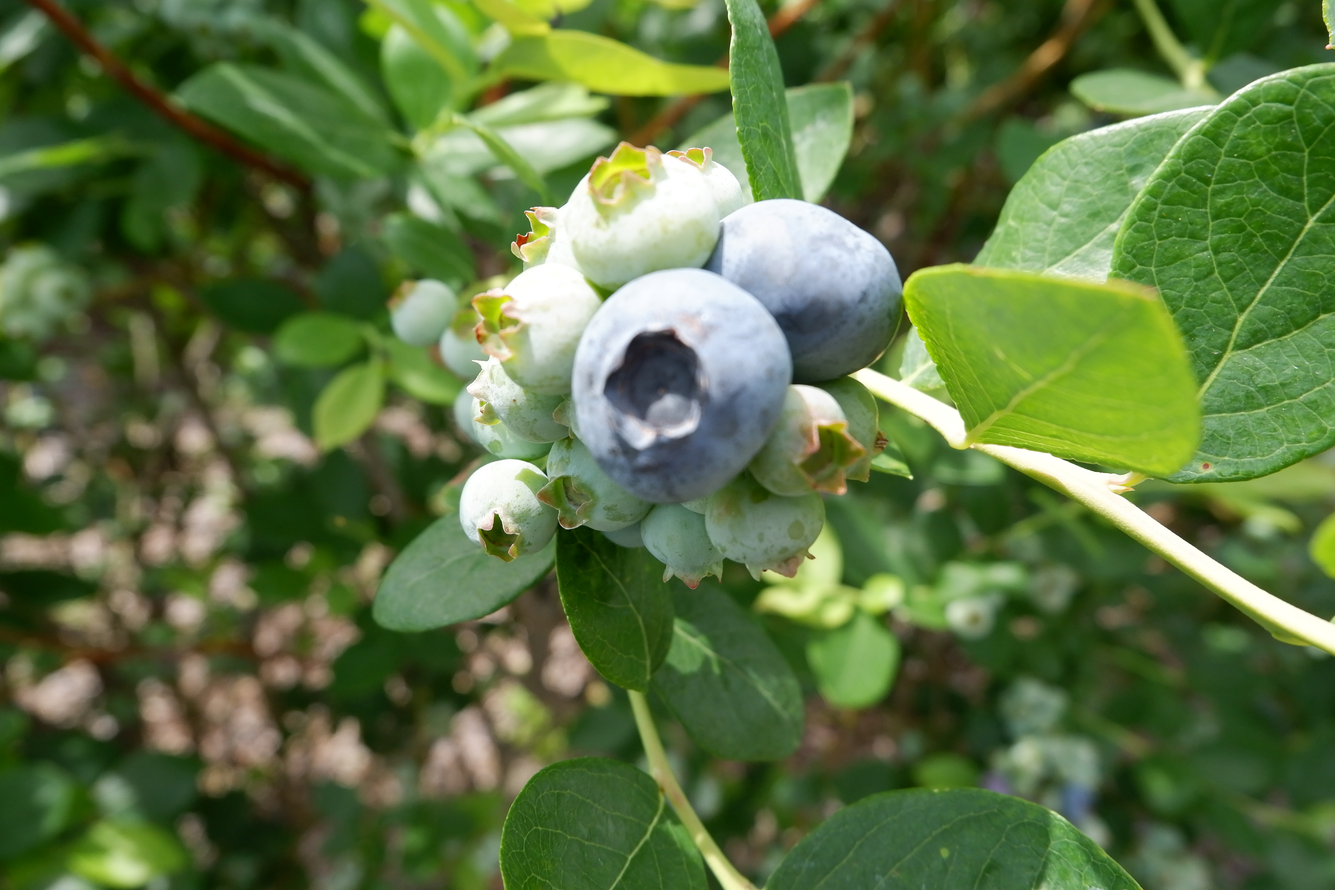Immature: (568, 151, 716, 286), (471, 268, 600, 392), (705, 471, 825, 576), (750, 387, 861, 494), (536, 436, 650, 531), (461, 461, 557, 558), (808, 375, 891, 481), (468, 360, 567, 443), (643, 505, 721, 587), (467, 397, 556, 463), (668, 148, 746, 218), (514, 205, 581, 271), (607, 517, 644, 547)
Mature: (575, 271, 785, 505), (708, 203, 900, 378)
